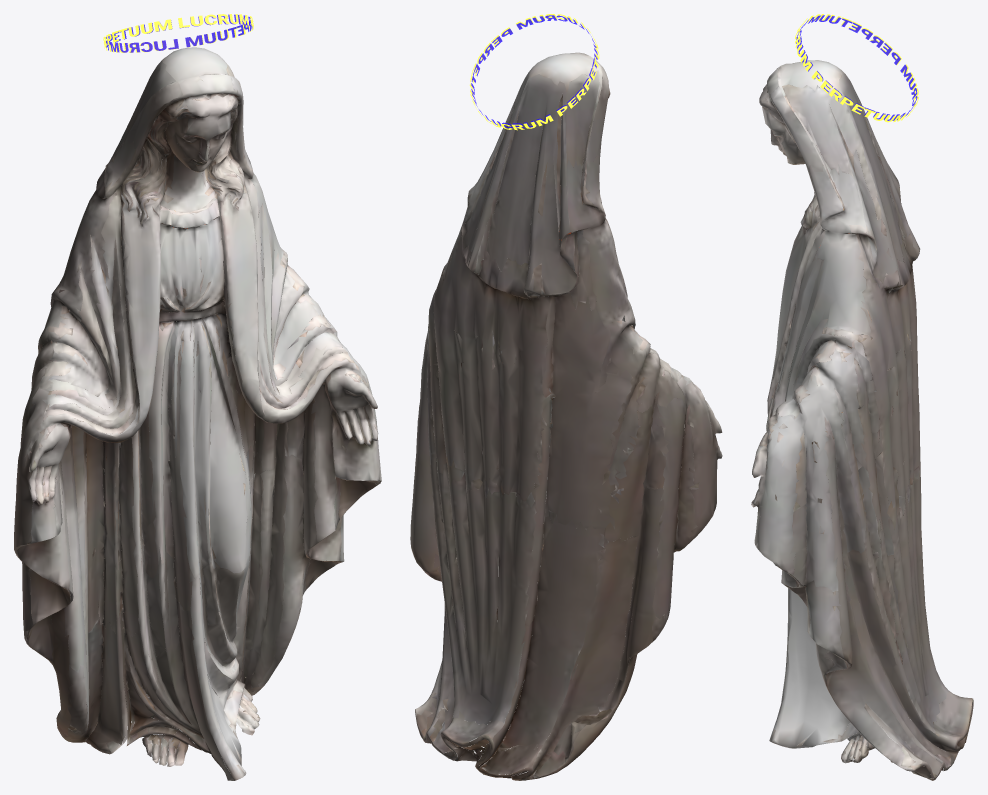
Rendered from CyberpunkMaryHeartRed.glb.
The picture shows the model from 3 angles, left to right: view 1: azimuth 30°, elevation 25°; view 2: azimuth 150°, elevation 25°; view 3: azimuth 270°, elevation 25°; orthographic projection. The views are drawn at different scales.
Parts seen in each view (by area): view 1: statue, HaloText1, HaloText2; view 2: statue, HaloText1, HaloText2; view 3: statue, HaloText1, HaloText2.
Part boxes in pixels (x1,y1,x2,y2): statue: (14,47,381,780); HaloText1: (103,14,253,52); HaloText2: (106,14,252,52); statue: (410,52,722,780); HaloText1: (469,14,599,130); HaloText2: (471,15,597,128); statue: (751,60,973,780); HaloText1: (795,14,918,122); HaloText2: (796,15,917,120).
Size of the model in its own units: 0.419 by 0.9205 by 0.2567.
Materials: 6 (3 with a texture image).
